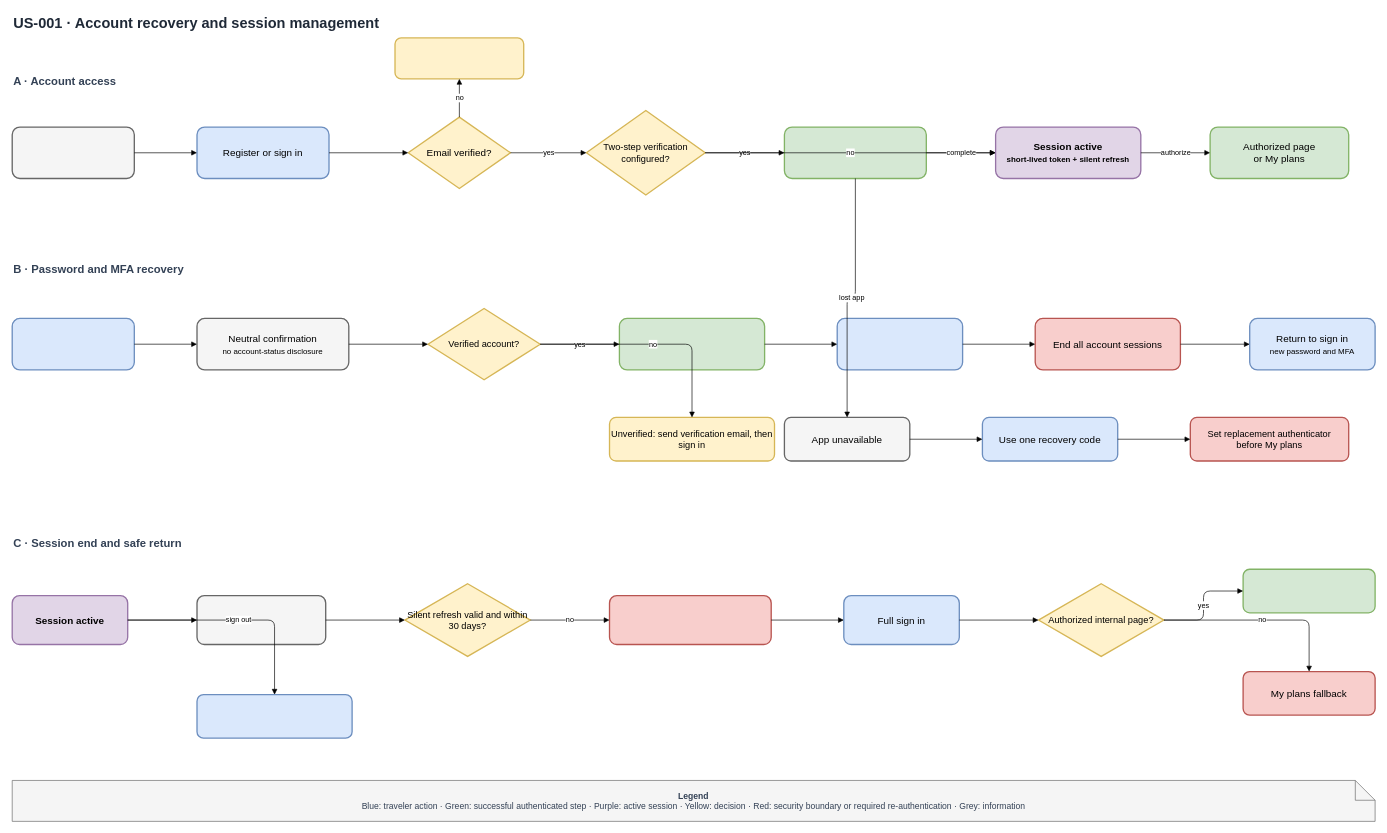
The diagram is 1387 pixels wide and 833 high, and some of its shapes have lost their labels. Each missing label, with the box of its shape:
Access token expires: (196, 595, 326, 645)
Anonymous traveler: (11, 126, 135, 179)
Authenticator-app challenge: (783, 126, 927, 179)
Clear session and private view keep safe internal destination: (609, 595, 772, 645)
Forgot password: (11, 317, 135, 370)
Password-reset email time-limited · single-use: (618, 317, 765, 370)
Resume requested page: (1242, 568, 1375, 613)
Send verification email: (394, 37, 524, 79)
Set new password: (836, 317, 963, 370)
Sign out current browser next sign-in starts at My plans: (196, 694, 352, 739)
